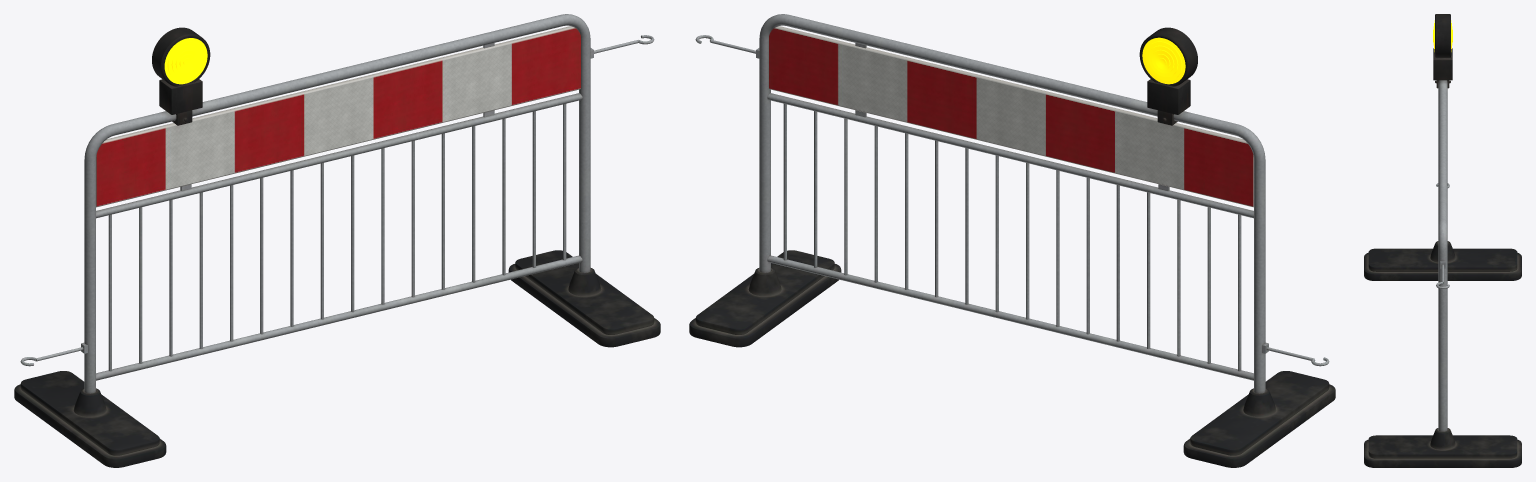
The model's file is construction-barrier.glb.
3 views of the same model, side by side, from view 1: azimuth 30°, elevation 25°; view 2: azimuth 150°, elevation 25°; view 3: azimuth 270°, elevation 25° (orthographic). The views are drawn at different scales.
Visible parts, largest first — view 1: construction-barrier_body, construction-barrier_lamp_lens; view 2: construction-barrier_body, construction-barrier_lamp_lens; view 3: construction-barrier_body.
Part boxes in pixels (left/top/right/bottom): construction-barrier_body: left=14, top=14, right=660, bottom=467; construction-barrier_lamp_lens: left=164, top=38, right=207, bottom=84; construction-barrier_body: left=689, top=14, right=1335, bottom=467; construction-barrier_lamp_lens: left=1142, top=37, right=1185, bottom=84; construction-barrier_body: left=1364, top=14, right=1521, bottom=467.
Bounding box in the file's own units: 2.5 × 1.41 × 0.7.
Materials: 2 (1 with a texture image).
